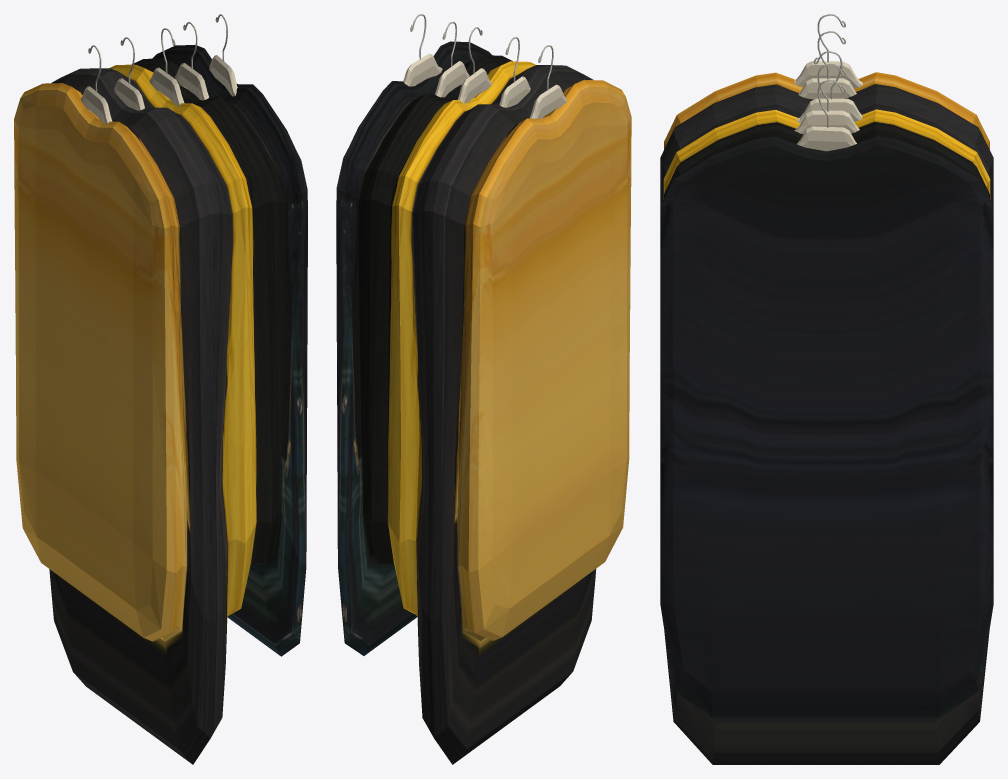
Rendered from sweethome3d-katorlegaz-hanging-clothes.glb.
The picture shows the model from 3 angles, left to right: view 1: azimuth 30°, elevation 25°; view 2: azimuth 150°, elevation 25°; view 3: azimuth 270°, elevation 25°; orthographic projection. The views are drawn at different scales.
Parts seen in each view (by area): view 1: Jackets, Jacket_hangers; view 2: Jackets, Jacket_hangers; view 3: Jackets, Jacket_hangers.
Part boxes in pixels (x1,y1,x2,y2): Jackets: (14, 45, 307, 764); Jacket_hangers: (80, 14, 237, 123); Jackets: (336, 41, 631, 764); Jacket_hangers: (403, 14, 566, 118); Jackets: (660, 72, 993, 764); Jacket_hangers: (794, 14, 862, 151).
Size of the model in its own units: 32.52 by 143 by 59.02.
3 materials, 1 textured.
